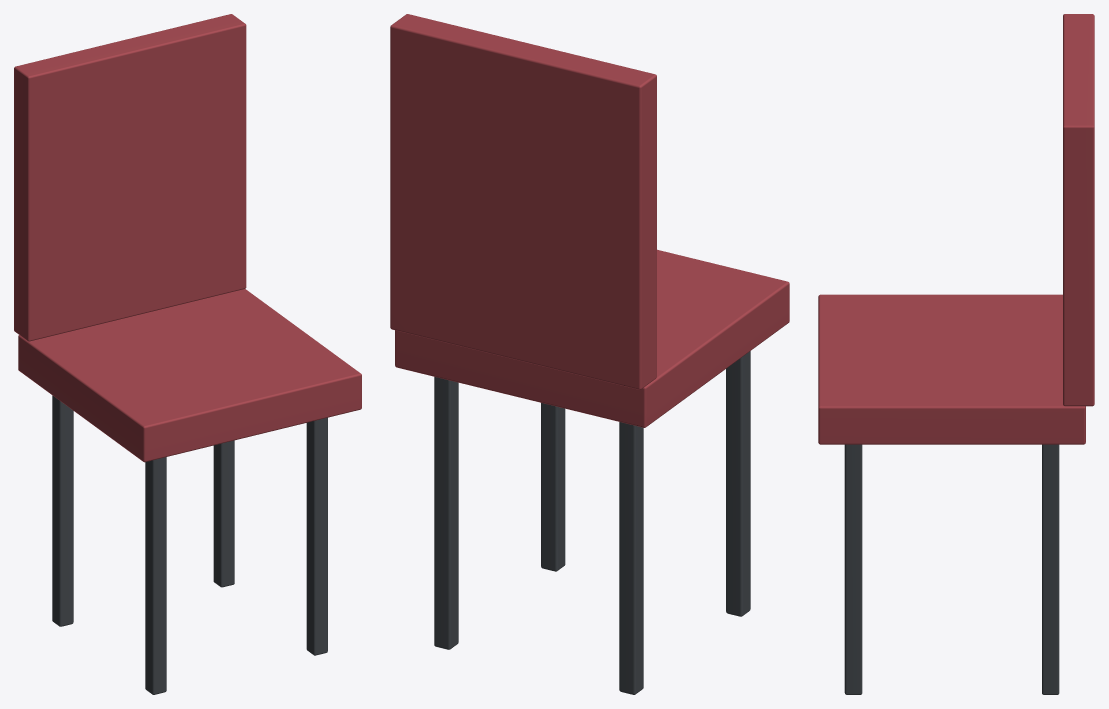
The model's file is chair.glb.
The picture shows the model from 3 angles, left to right: view 1: azimuth 30°, elevation 25°; view 2: azimuth 150°, elevation 25°; view 3: azimuth 270°, elevation 25°; orthographic projection. The views are drawn at different scales.
Visible parts, largest first — view 1: chair_0_-1__back, chair_0_-1__seat, chair_0_-1__leg-1-1, chair_0_-1__leg1-1, chair_0_-1__leg-11, chair_0_-1__leg11; view 2: chair_0_-1__back, chair_0_-1__seat, chair_0_-1__leg-11, chair_0_-1__leg11, chair_0_-1__leg-1-1, chair_0_-1__leg1-1; view 3: chair_0_-1__seat, chair_0_-1__back, chair_0_-1__leg1-1, chair_0_-1__leg11.
Part boxes in pixels (bbox=[...]): chair_0_-1__back: bbox=[14, 14, 246, 341]; chair_0_-1__seat: bbox=[18, 289, 361, 462]; chair_0_-1__leg-1-1: bbox=[145, 457, 166, 694]; chair_0_-1__leg1-1: bbox=[306, 417, 327, 655]; chair_0_-1__leg-11: bbox=[52, 395, 73, 626]; chair_0_-1__leg11: bbox=[213, 440, 234, 587]; chair_0_-1__back: bbox=[390, 14, 656, 389]; chair_0_-1__seat: bbox=[395, 249, 789, 427]; chair_0_-1__leg-11: bbox=[619, 422, 643, 694]; chair_0_-1__leg11: bbox=[434, 377, 458, 649]; chair_0_-1__leg-1-1: bbox=[726, 351, 750, 616]; chair_0_-1__leg1-1: bbox=[541, 403, 565, 571]; chair_0_-1__seat: bbox=[818, 294, 1085, 444]; chair_0_-1__back: bbox=[1063, 14, 1094, 406]; chair_0_-1__leg1-1: bbox=[844, 444, 862, 694]; chair_0_-1__leg11: bbox=[1042, 444, 1059, 694].
Size of the model in its own units: 0.38 by 0.91 by 0.3925.
